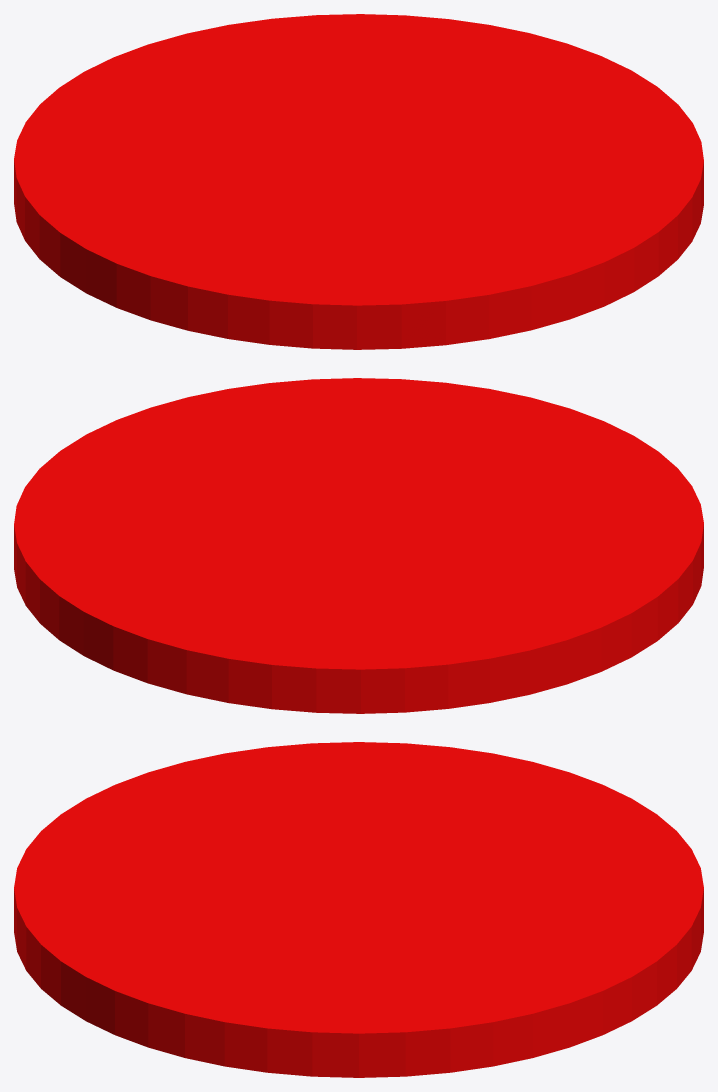
The model's file is red-disc.glb.
The picture shows the model from 3 angles, top to bottom: view 1: azimuth 30°, elevation 25°; view 2: azimuth 150°, elevation 25°; view 3: azimuth 270°, elevation 25°; orthographic projection.
Visible parts, largest first — view 1: Curve; view 2: Curve; view 3: Curve.
Boxes of the visible parts, x1,y1,x2,y2 form: Curve: [14, 14, 703, 349]; Curve: [14, 378, 703, 713]; Curve: [14, 742, 703, 1077].
Bounding box in the file's own units: 0.0282 × 0.002 × 0.0282.
